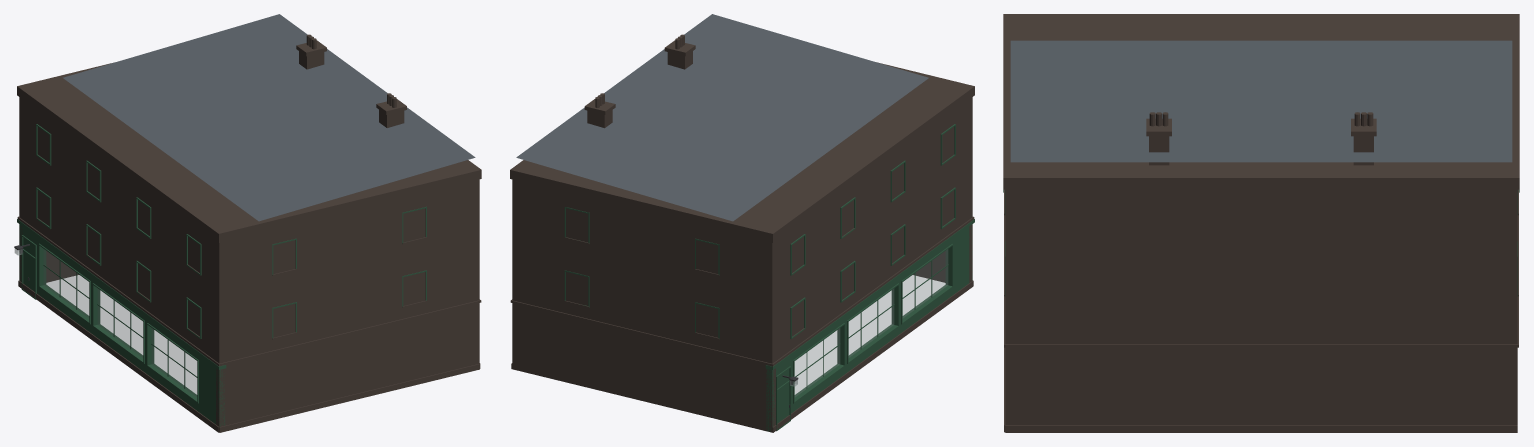
The model's file is ginpalace.glb.
3 renders of one model, left to right at view 1: azimuth 30°, elevation 25°; view 2: azimuth 150°, elevation 25°; view 3: azimuth 270°, elevation 25°, orthographic. The views are drawn at different scales.
Visible parts, largest first — view 1: ginpalace; view 2: ginpalace; view 3: ginpalace.
Part boxes in pixels (bbox=[...]): ginpalace: bbox=[14, 14, 481, 432]; ginpalace: bbox=[510, 14, 974, 432]; ginpalace: bbox=[1003, 14, 1519, 432].
Bounding box in the file's own units: 15.87 × 13.04 × 20.16.
